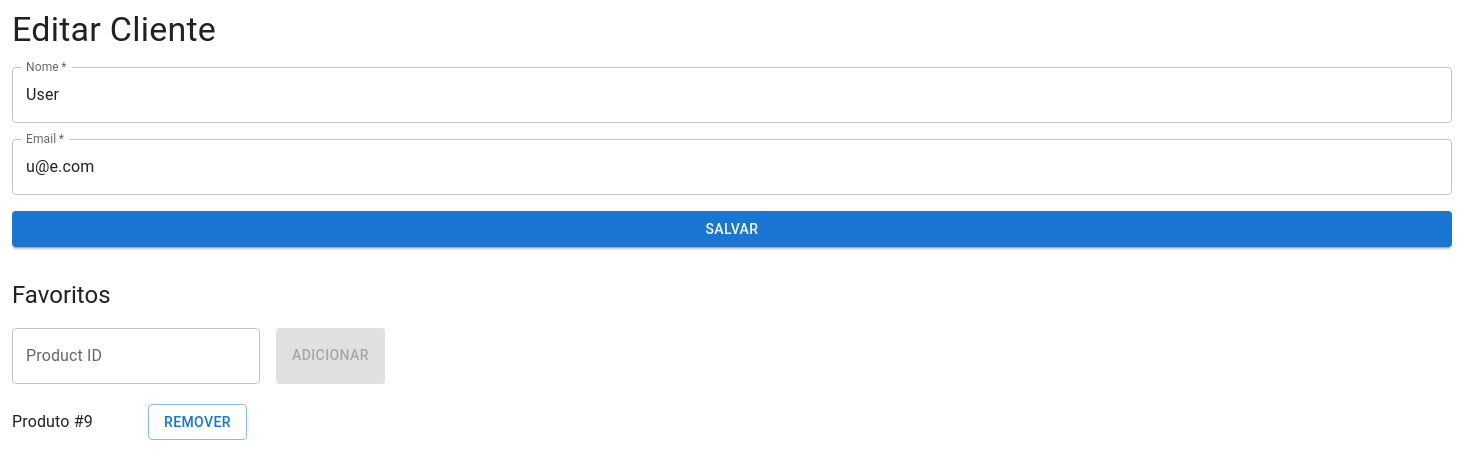
Test: Favorites UI › removes favorite from list
Expected: the text "Produto #9" is shown, [12,412,93,431]
Step 1. Click the button "Remover" → (198,422), box [148,404,247,440]
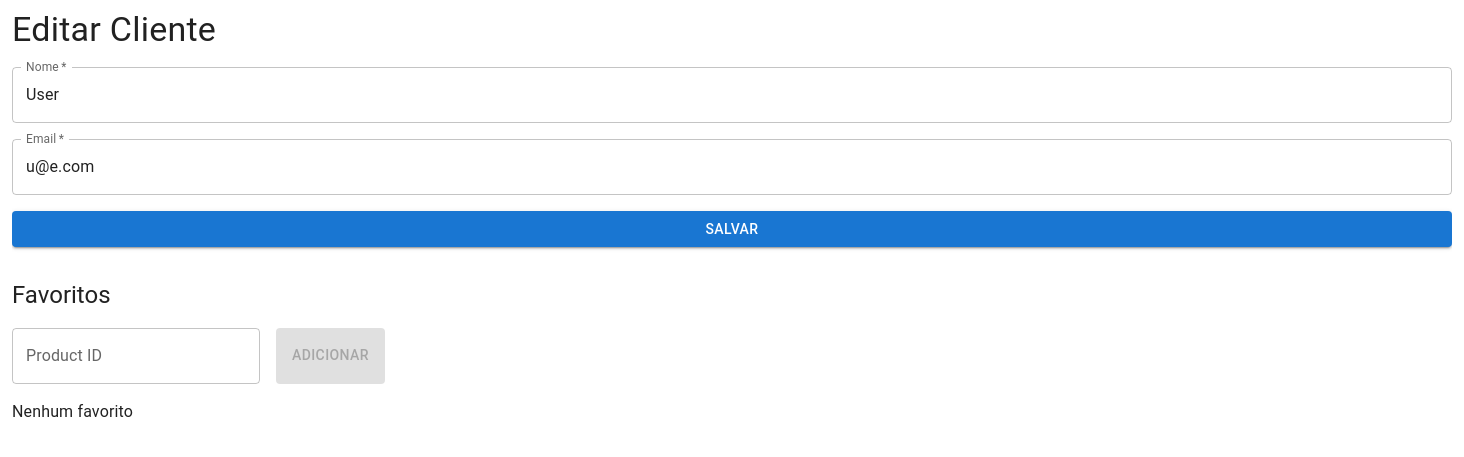
Now the text "Nenhum favorito" is shown, box [12,402,133,420]
